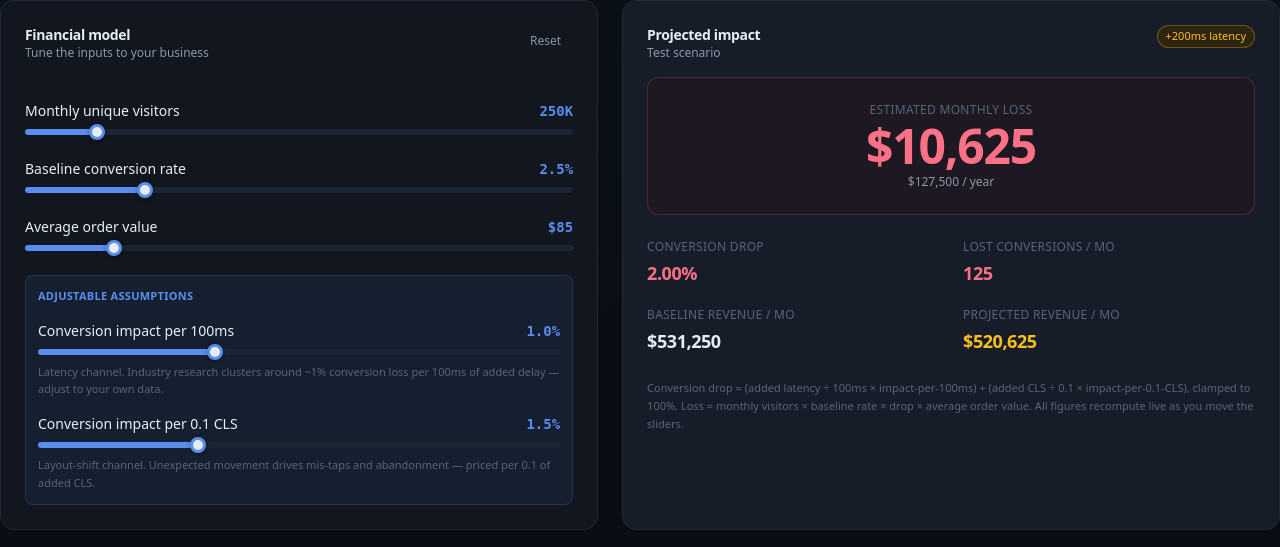
Test: RoiSimulator › resets assumptions to defaults via the reset control
Set the slider named "Conversion impact per 100ms" to "2" at point(383, 352), box [38,348,560,354]
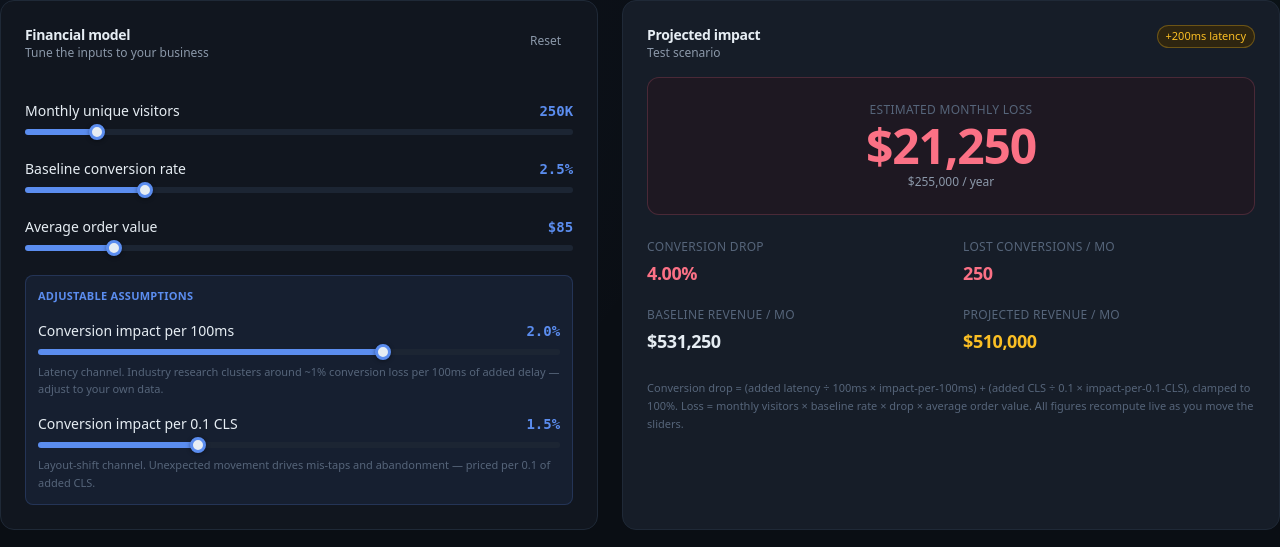
Expected: the text "$21,250" is shown, [866,122,1036,170]
Click the button "Reset" at point(546, 41), box [518,25,573,57]
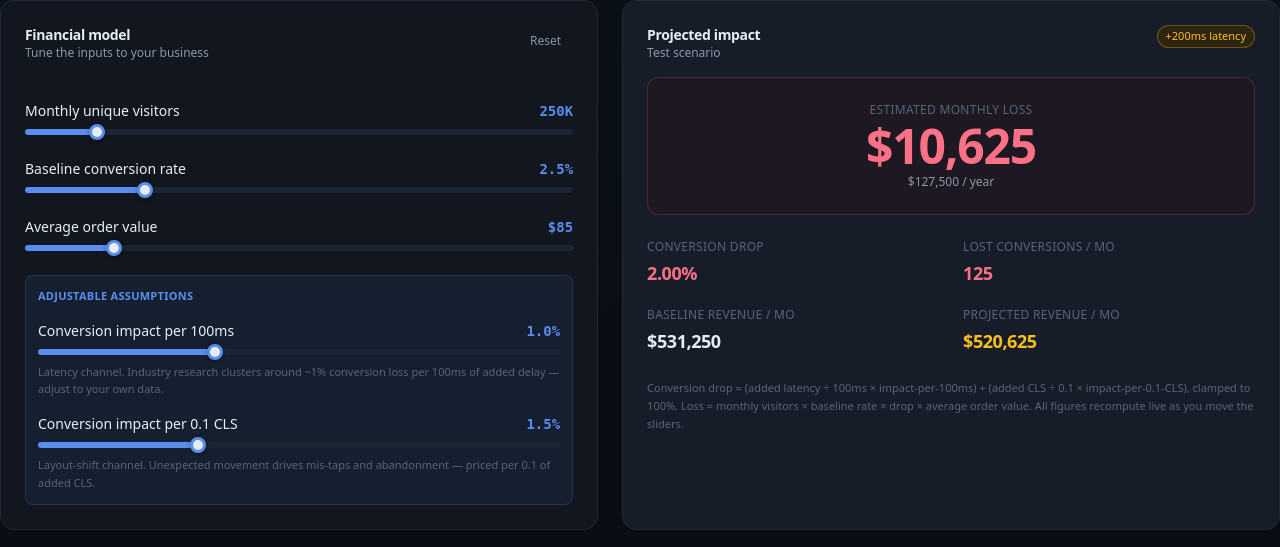
Expected: the text "$10,625" is shown, [866,122,1036,170]
